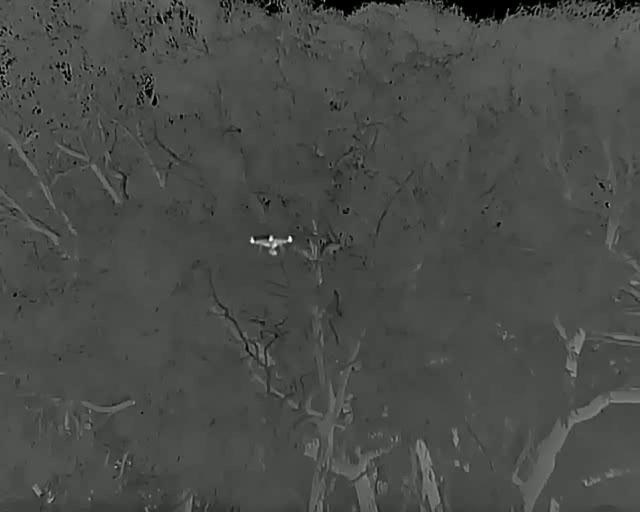DJI-Phantom: (248, 234, 296, 256)
